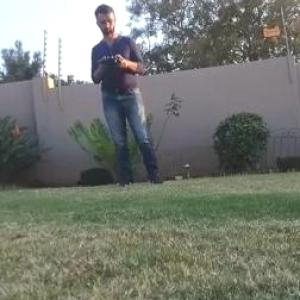follow: (87, 0, 173, 193)
